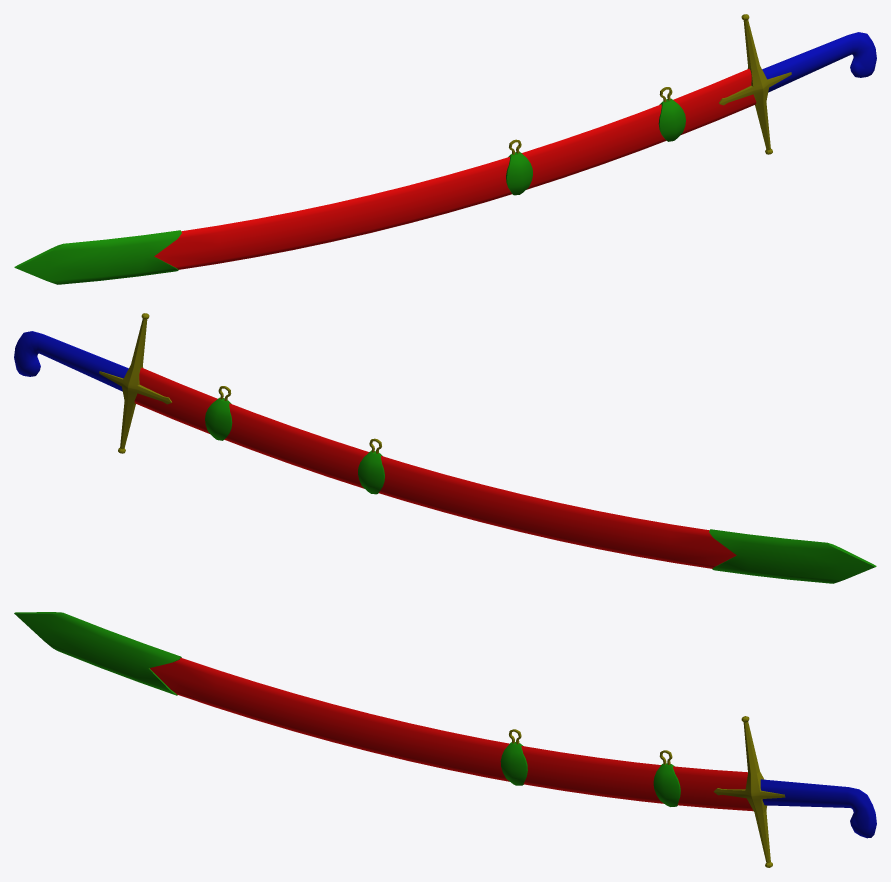
Rendered from Sword_Arab.dae.
The picture shows the model from 3 angles, top to bottom: view 1: azimuth 30°, elevation 25°; view 2: azimuth 150°, elevation 25°; view 3: azimuth 330°, elevation 25°; orthographic projection.
Parts seen in each view (by area): view 1: Plane001; view 2: Plane001; view 3: Plane001.
Part boxes in pixels (bbox=[...]): Plane001: bbox=[14, 14, 876, 284]; Plane001: bbox=[14, 313, 876, 583]; Plane001: bbox=[14, 612, 876, 867].
Size of the model in its own units: 183 by 29.51 by 4.28.
